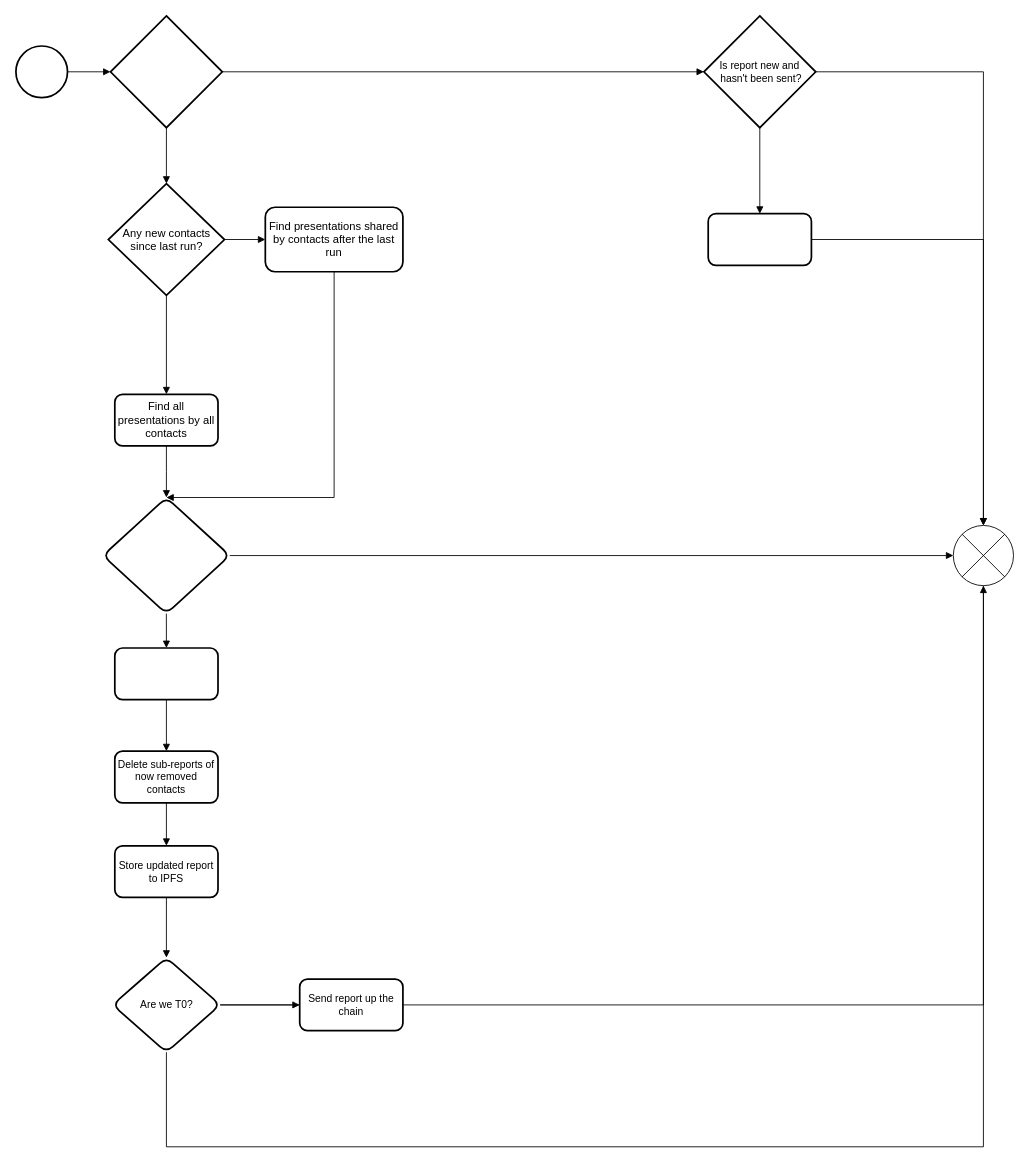
The diagram is 1029 pixels wide and 1163 high, and some of its shapes have lost their labels. Here are the shapes that lost their labels. From the top down, the centre of each, then its label:
At [166,71]: "Does report have associated sub suppliers?".
At [759,239]: "Send empty report".
At [166,555]: "Found presentations (i.e. are there updates)?".
At [166,673]: "Merge presentations into report".
